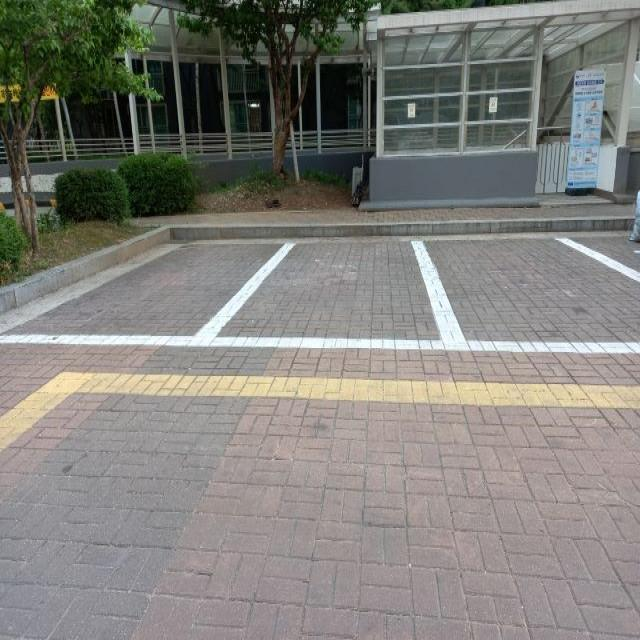Vacant: (42, 238, 263, 347), (428, 229, 635, 342), (270, 238, 443, 347)
